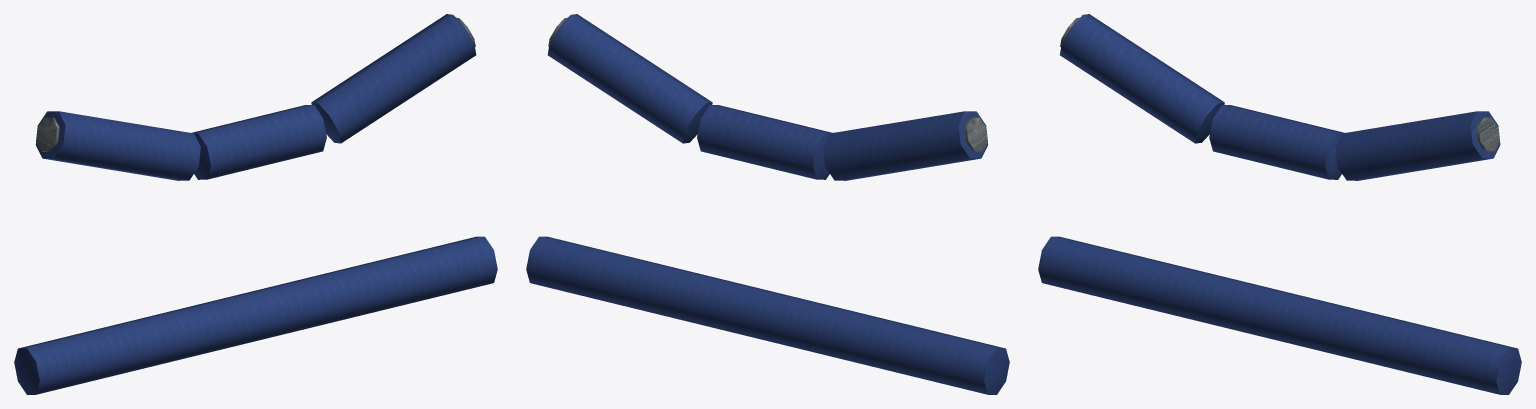
Rendered from Conveyor_Roller_Isolated.obj.
3 renders of one model, left to right at view 1: azimuth 30°, elevation 25°; view 2: azimuth 150°, elevation 25°; view 3: azimuth 330°, elevation 25°, orthographic.
Parts seen in each view (by area): view 1: Conveyor_Roller_Isolated; view 2: Conveyor_Roller_Isolated; view 3: Conveyor_Roller_Isolated.
Part boxes in pixels (x1=…): Conveyor_Roller_Isolated: x1=14, y1=14, x2=497, y2=394; Conveyor_Roller_Isolated: x1=526, y1=14, x2=1009, y2=394; Conveyor_Roller_Isolated: x1=1038, y1=14, x2=1521, y2=394.
Bounding box in the file's own units: 1.33 × 0.7518 × 0.127.
2 materials, 2 textured.
